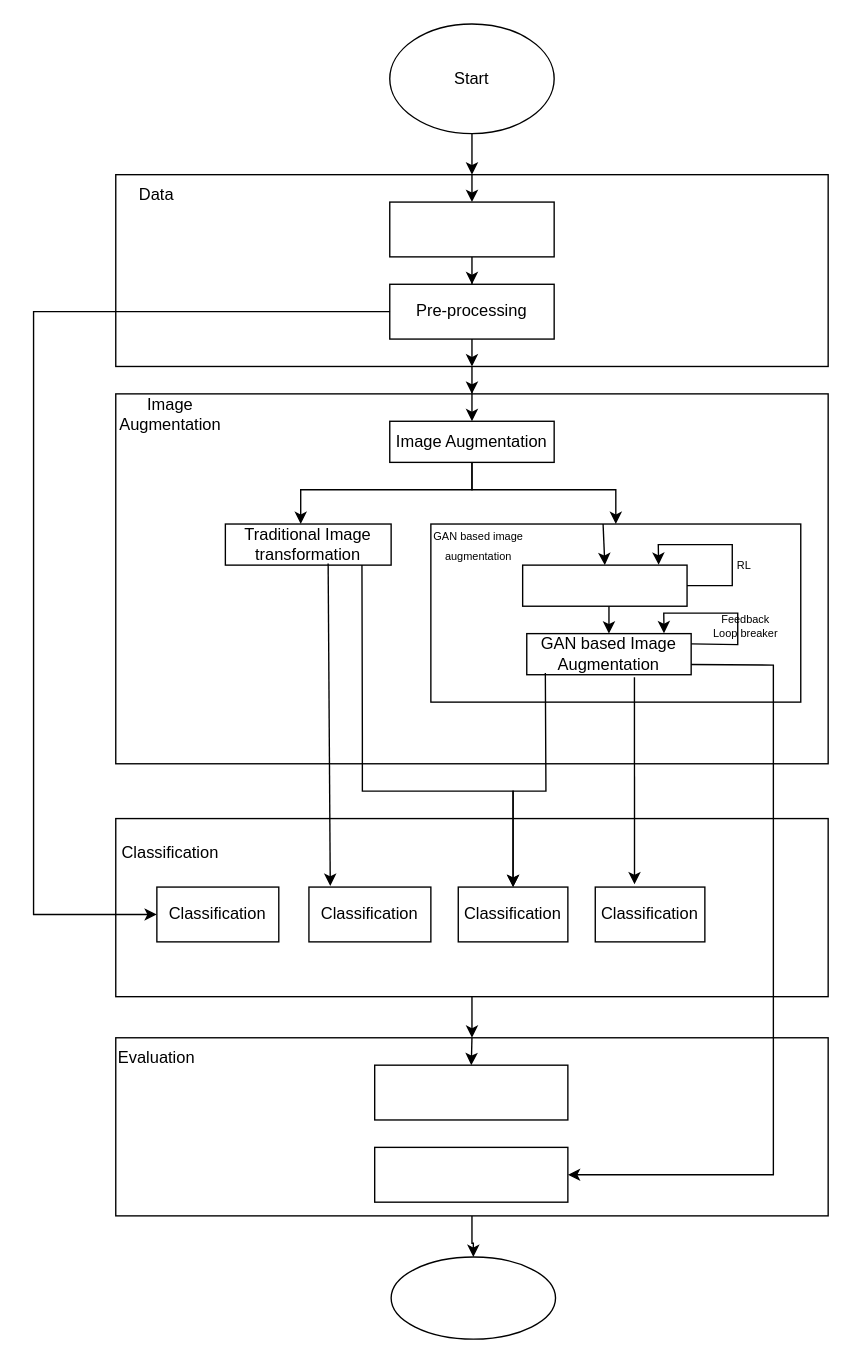
The diagram is 852 pixels wide and 1363 high, and some of its shapes have lost their labels. Here are the shapes that lost their labels. From the top down, the centre of each, then its label:
pixel 471 229: Data Loading and Understanding
pixel 604 585: Autoencoder
pixel 470 1092: Classification Evaluation
pixel 470 1174: GAN Evaluation
pixel 473 1297: End
